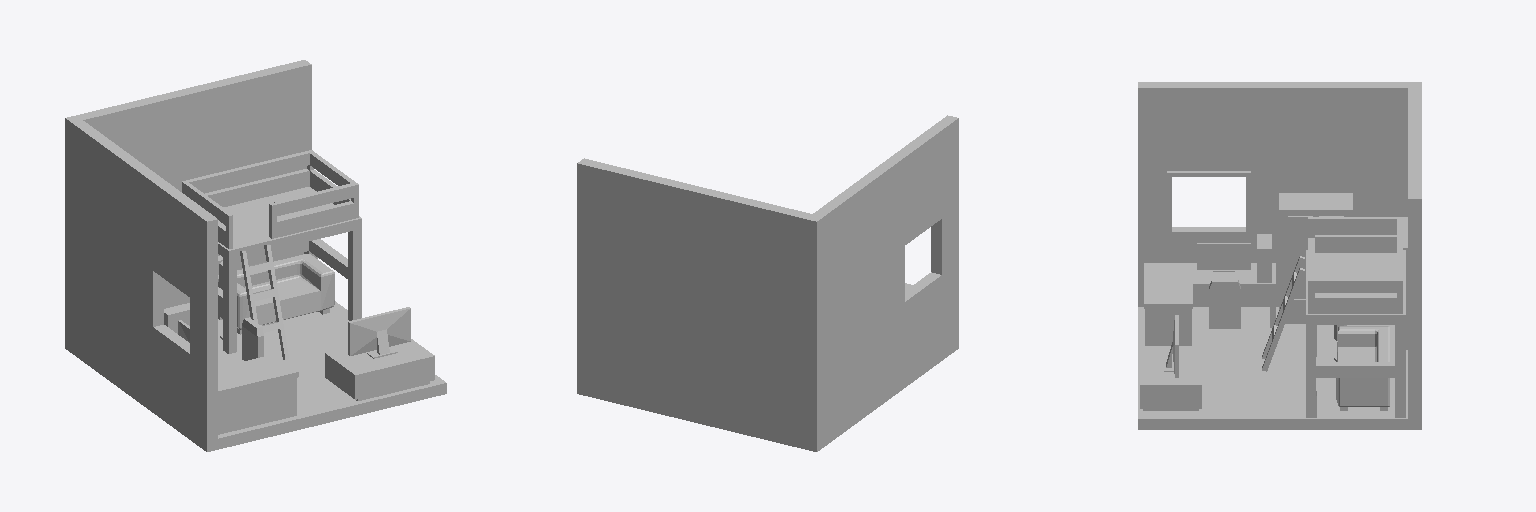
Rendered from room2.obj.
3 renders of one model, left to right at view 1: azimuth 30°, elevation 25°; view 2: azimuth 150°, elevation 25°; view 3: azimuth 270°, elevation 25°, orthographic.
Visible parts, largest first — view 1: Object_4; view 2: Object_4; view 3: Object_4.
Boxes of the visible parts, x1,y1,x2,y2 form: Object_4: [65, 60, 446, 451]; Object_4: [577, 115, 958, 451]; Object_4: [1138, 82, 1421, 429].
Bounding box in the file's own units: 6.6 × 6.07 × 6.76.